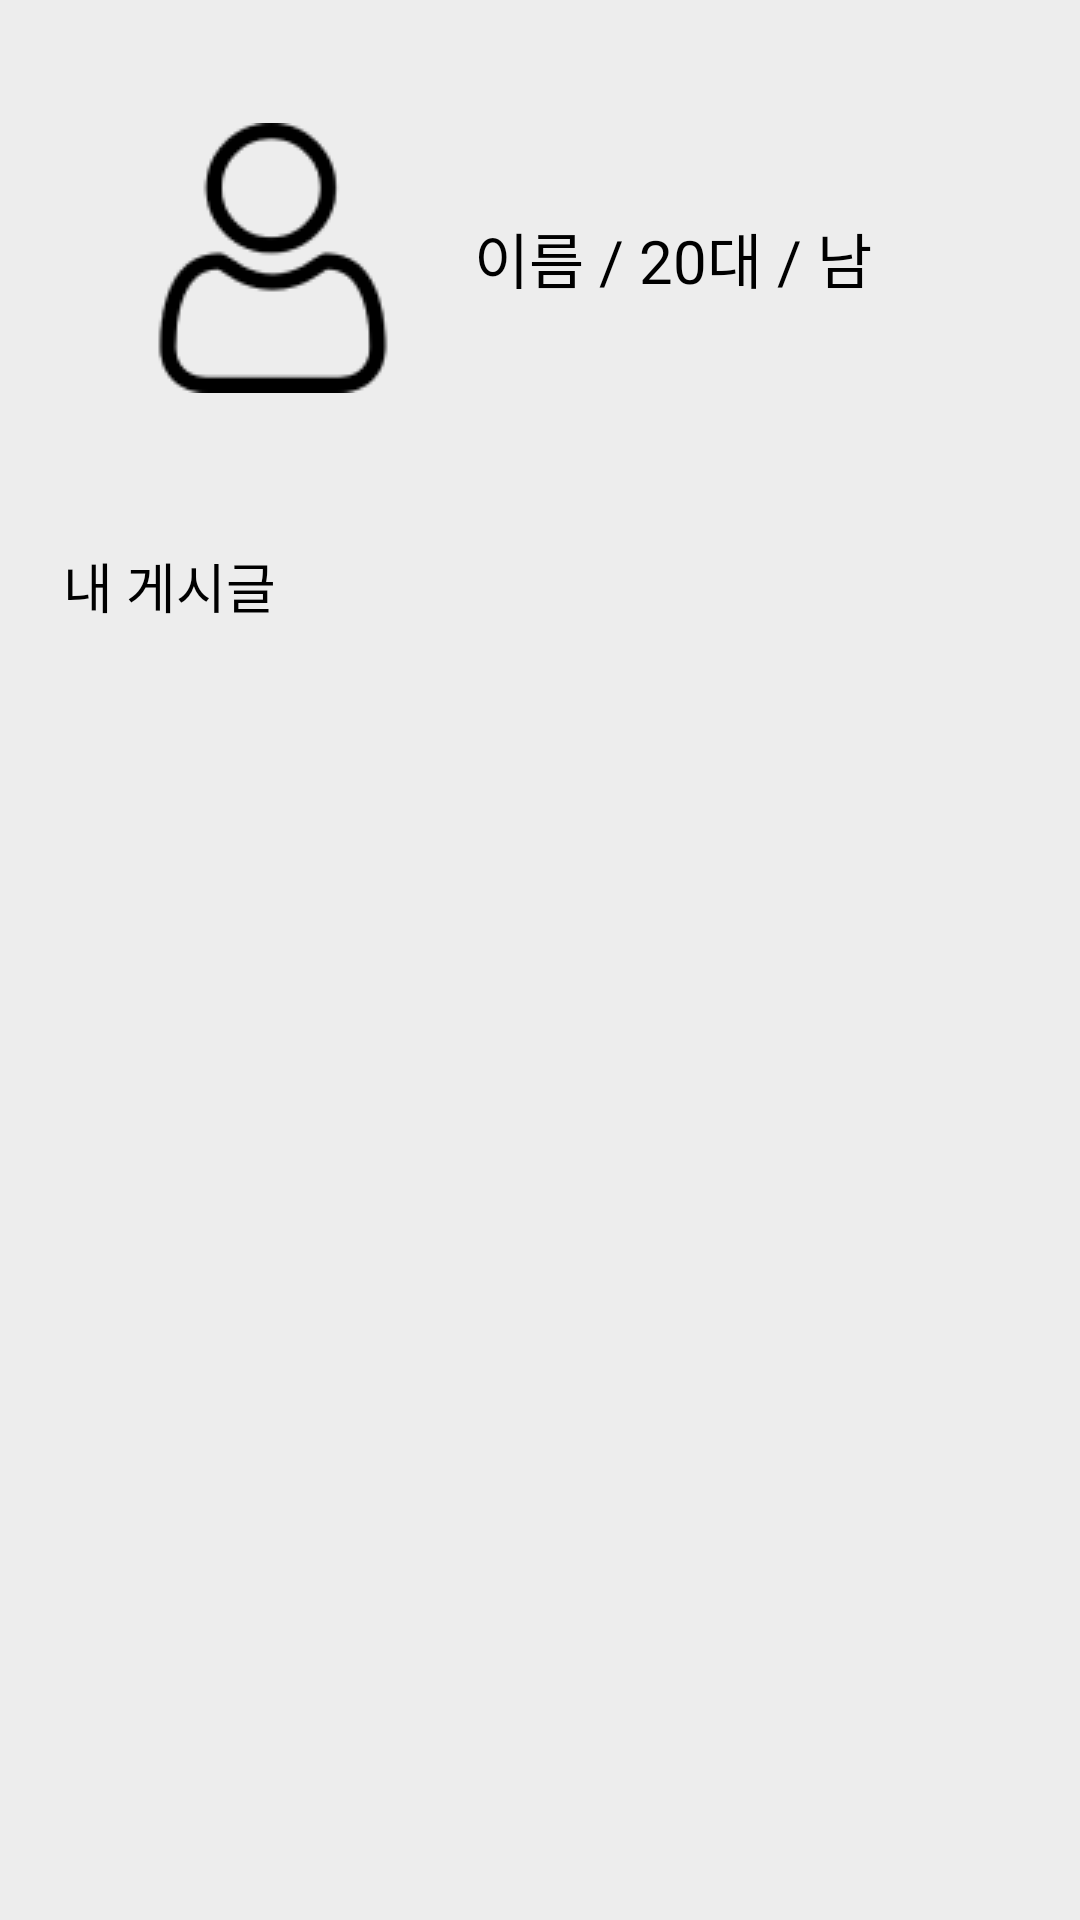

Named icons in this screenshot (1080 x 1920) and their bounding boxes, (x1, y1, x2, y2):
profile: (158, 123, 388, 393)
